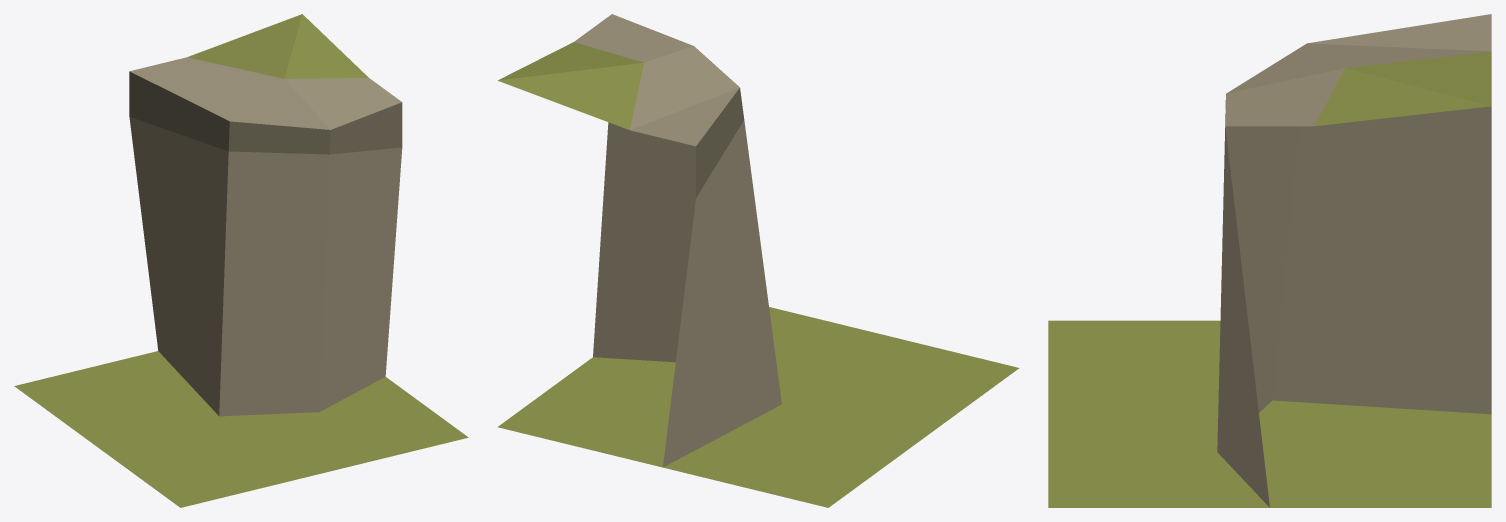
The model's file is forest_cliff_outer01.glb.
3 renders of one model, left to right at view 1: azimuth 30°, elevation 25°; view 2: azimuth 150°, elevation 25°; view 3: azimuth 270°, elevation 25°, orthographic. The views are drawn at different scales.
Visible parts, largest first — view 1: forest_cliff02-col.004, forest_cliff02-col.002; view 2: forest_cliff02-col.004, forest_cliff02-col.002; view 3: forest_cliff02-col.004, forest_cliff02-col.002.
Boxes of the visible parts, bbox=[...] form: forest_cliff02-col.004: bbox=[129, 14, 402, 416]; forest_cliff02-col.002: bbox=[14, 351, 468, 507]; forest_cliff02-col.004: bbox=[498, 14, 781, 467]; forest_cliff02-col.002: bbox=[497, 307, 1019, 507]; forest_cliff02-col.004: bbox=[1217, 14, 1491, 507]; forest_cliff02-col.002: bbox=[1048, 320, 1491, 507].
Bounding box in the file's own units: 10 × 10 × 10.
